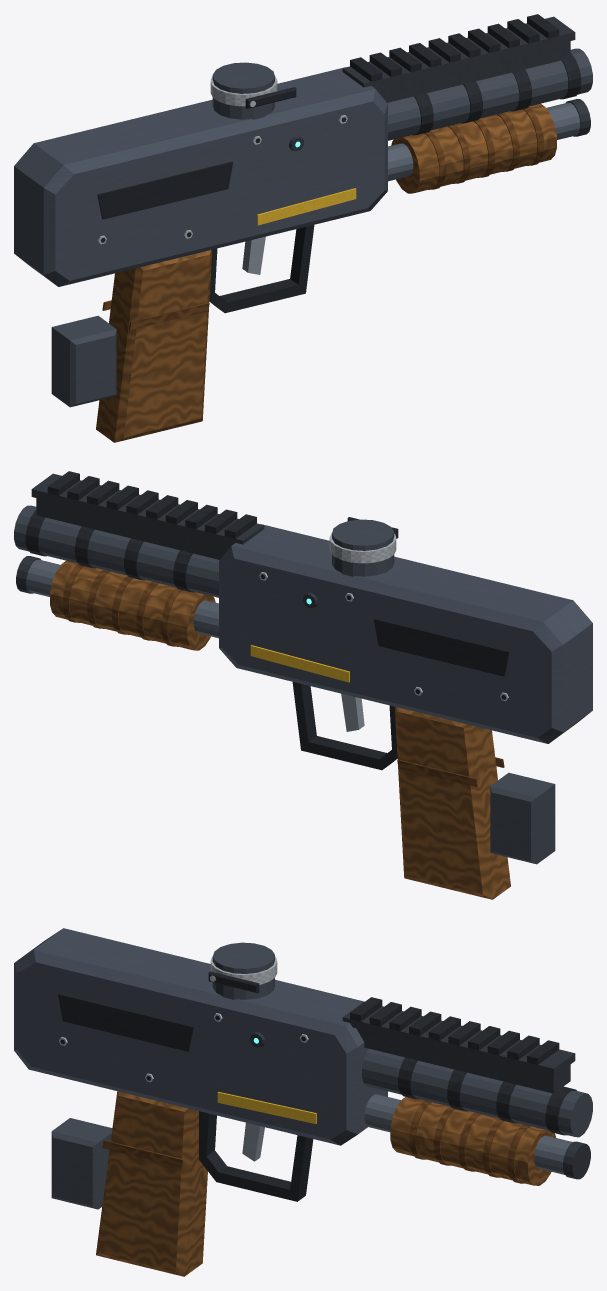
File: shotgun_v2.glb
The picture shows the model from 3 angles, top to bottom: view 1: azimuth 30°, elevation 25°; view 2: azimuth 150°, elevation 25°; view 3: azimuth 330°, elevation 25°; orthographic projection.
Visible parts, largest first — view 1: body; view 2: body; view 3: body.
Boxes of the visible parts, x1,y1,x2,y2 form: body: (14, 14, 592, 442); body: (14, 471, 592, 899); body: (14, 928, 592, 1276).
Size of the model in its own units: 0.45 by 0.254 by 0.0599.
14 materials, 13 textured.
